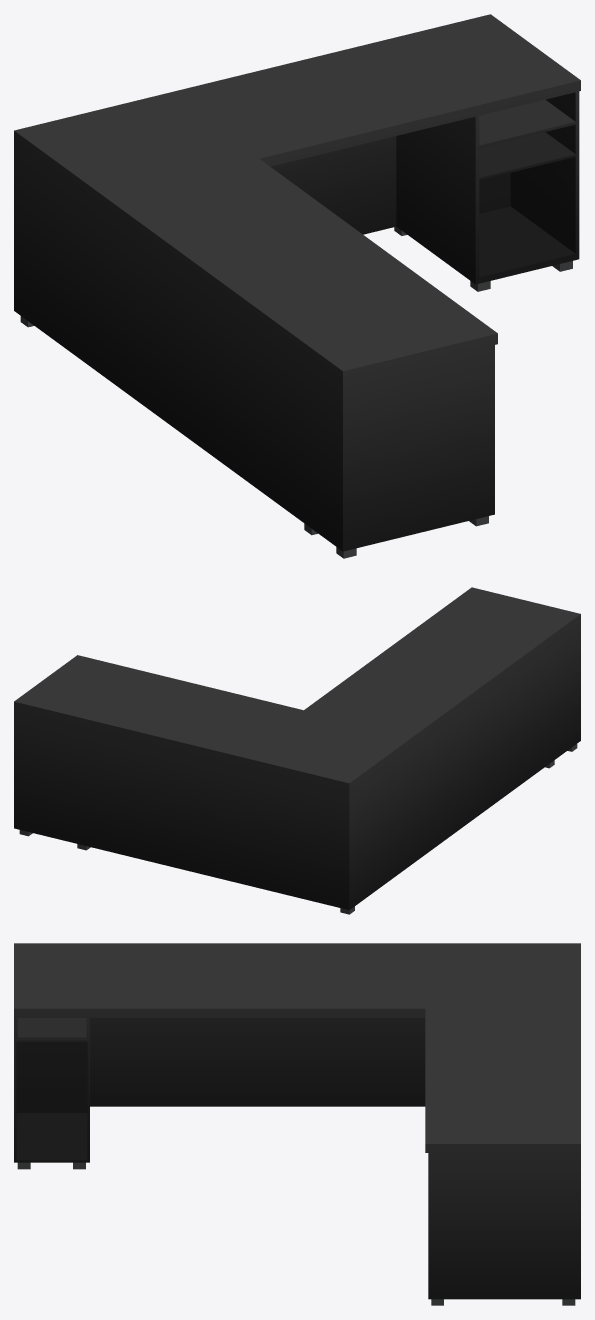
The model's file is Desk_Corner_Booth_C_Open_Black.fbx.
3 renders of one model, top to bottom at view 1: azimuth 30°, elevation 25°; view 2: azimuth 150°, elevation 25°; view 3: azimuth 270°, elevation 25°, orthographic. The views are drawn at different scales.
Visible parts, largest first — view 1: Desk_Corner_Booth_C_Open_Black; view 2: Desk_Corner_Booth_C_Open_Black; view 3: Desk_Corner_Booth_C_Open_Black.
Boxes of the visible parts, x1,y1,x2,y2 form: Desk_Corner_Booth_C_Open_Black: (14,14,580,558); Desk_Corner_Booth_C_Open_Black: (14,587,580,914); Desk_Corner_Booth_C_Open_Black: (14,943,580,1305).
Size of the model in its own units: 184 by 70 by 220.
